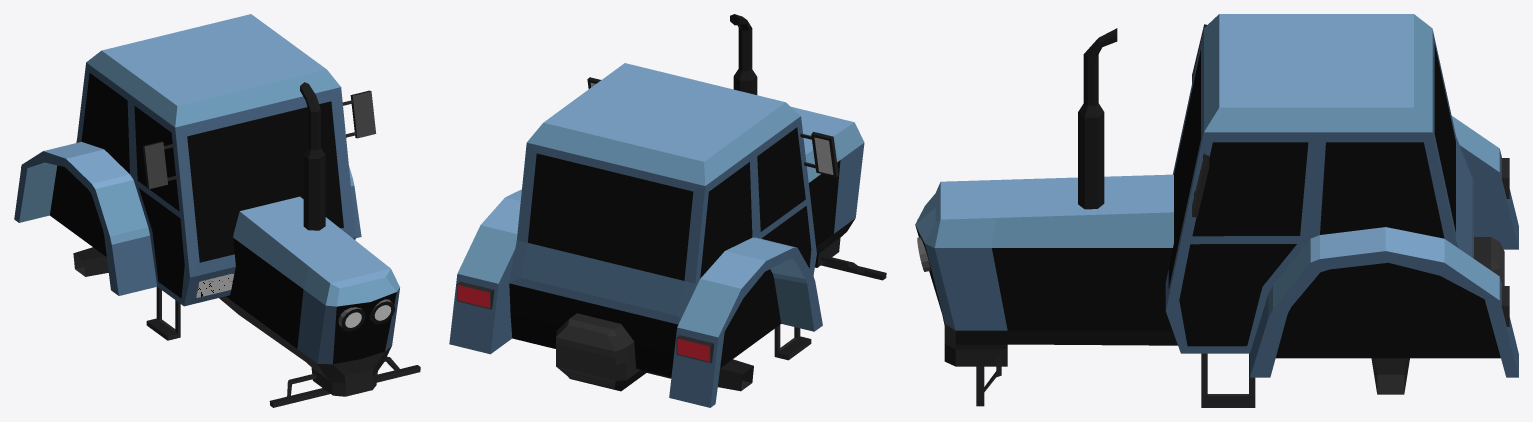
File: Tractor.003.fbx
3 views of the same model, side by side, from view 1: azimuth 30°, elevation 25°; view 2: azimuth 150°, elevation 25°; view 3: azimuth 270°, elevation 25° (orthographic). The views are drawn at different scales.
Visible parts, largest first — view 1: Tractor.003; view 2: Tractor.003; view 3: Tractor.003.
Part boxes in pixels (x1,y1,x2,y2): Tractor.003: (14, 14, 420, 407); Tractor.003: (449, 14, 886, 407); Tractor.003: (915, 14, 1518, 407).
Size of the model in its own units: 2.11 by 2.2 by 3.54.
